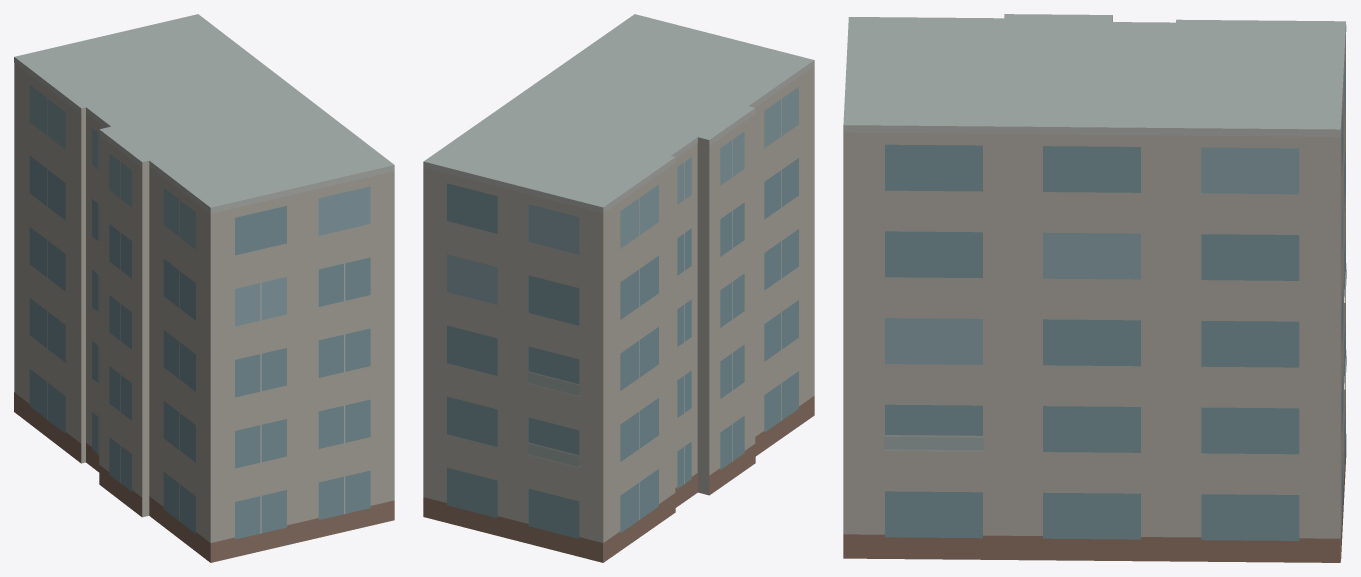
File: survey-upis-33017069.glb
The picture shows the model from 3 angles, left to right: view 1: azimuth 30°, elevation 25°; view 2: azimuth 150°, elevation 25°; view 3: azimuth 270°, elevation 25°; orthographic projection. The views are drawn at different scales.
Visible parts, largest first — view 1: survey-upis-33017069.tmp; view 2: survey-upis-33017069.tmp; view 3: survey-upis-33017069.tmp.
Part boxes in pixels (x1,y1,x2,y2): survey-upis-33017069.tmp: [14, 14, 394, 562]; survey-upis-33017069.tmp: [423, 14, 814, 562]; survey-upis-33017069.tmp: [843, 14, 1346, 562].
Size of the model in its own units: 8.3 by 14.5 by 15.27.
